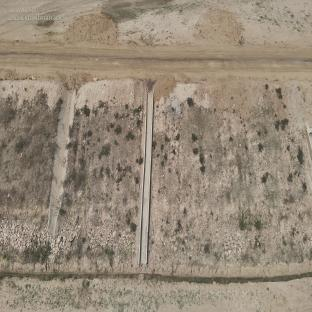rock_toe: (150, 222, 312, 267), (0, 218, 138, 269)
slope_drain: (48, 88, 78, 235), (139, 89, 154, 264)
toe_drain: (0, 270, 312, 286)
